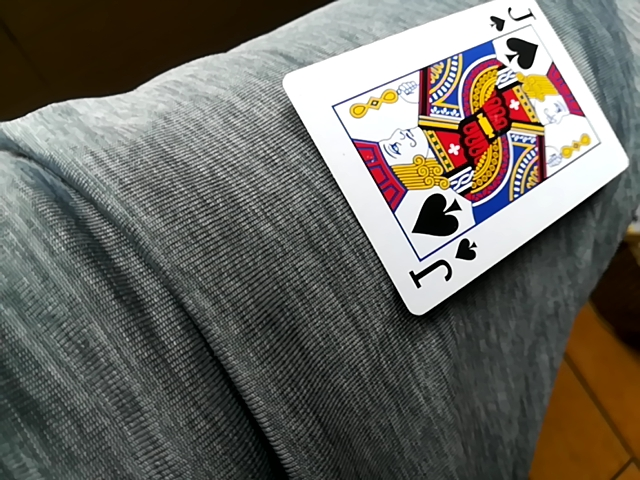ht j: (284, 0, 622, 317)
